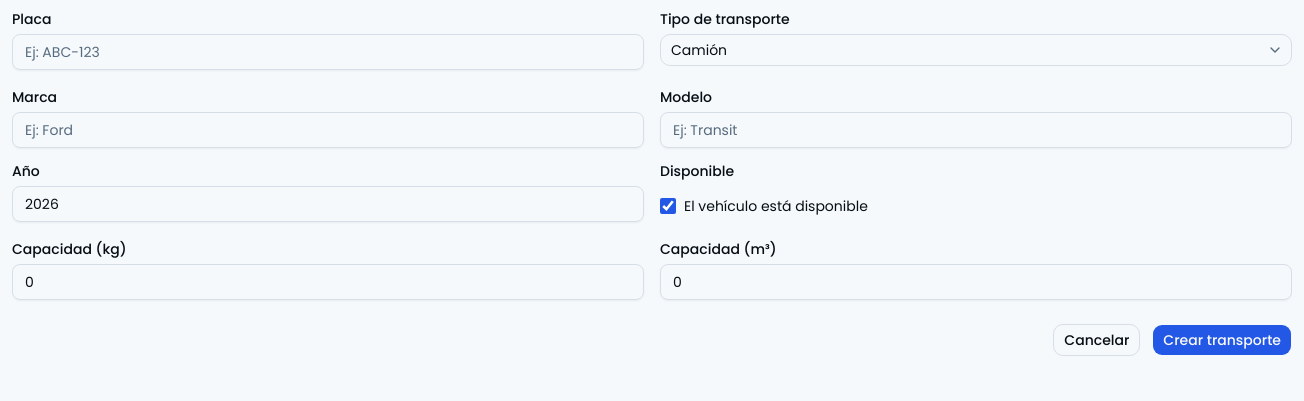
TransportForm — validación › muestra errores en capacity_kg y capacity_m3 con default 0
Type "TEST-001" into the field labelled "Placa" at x=328, y=52, box 12,34 -> 644,70
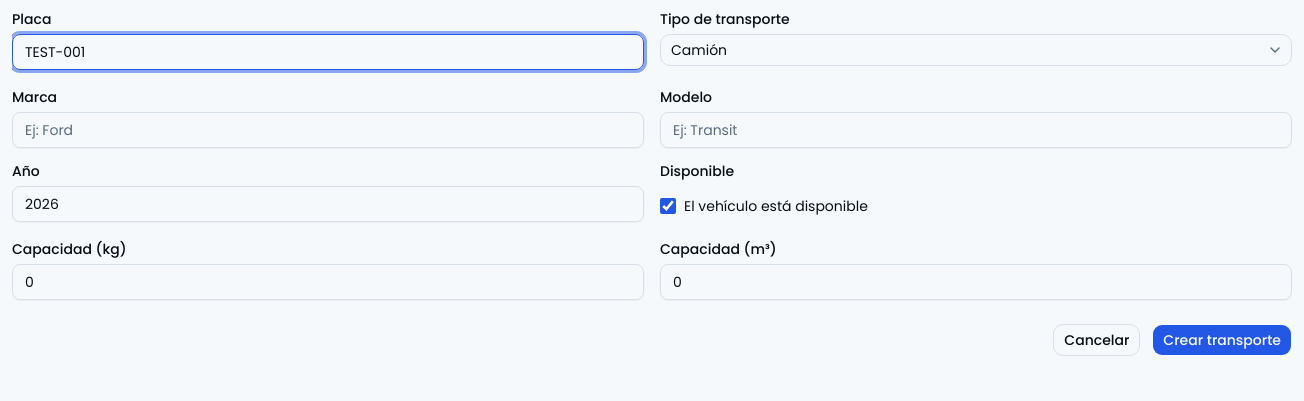
Type "Ford" into the field labelled "Marca" at x=328, y=130, box 12,112 -> 644,148
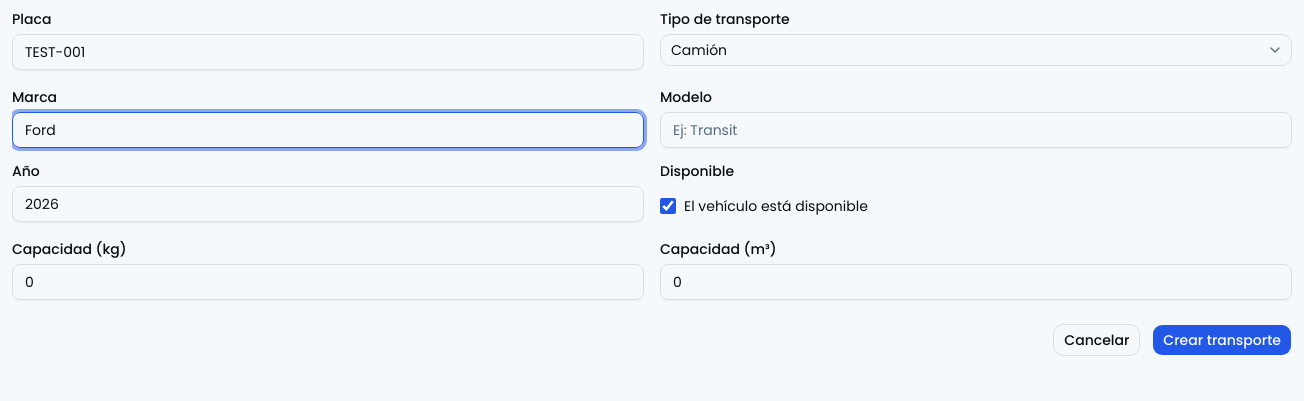
Type "Transit" into the field labelled "Modelo" at x=976, y=130, box 660,112 -> 1292,148
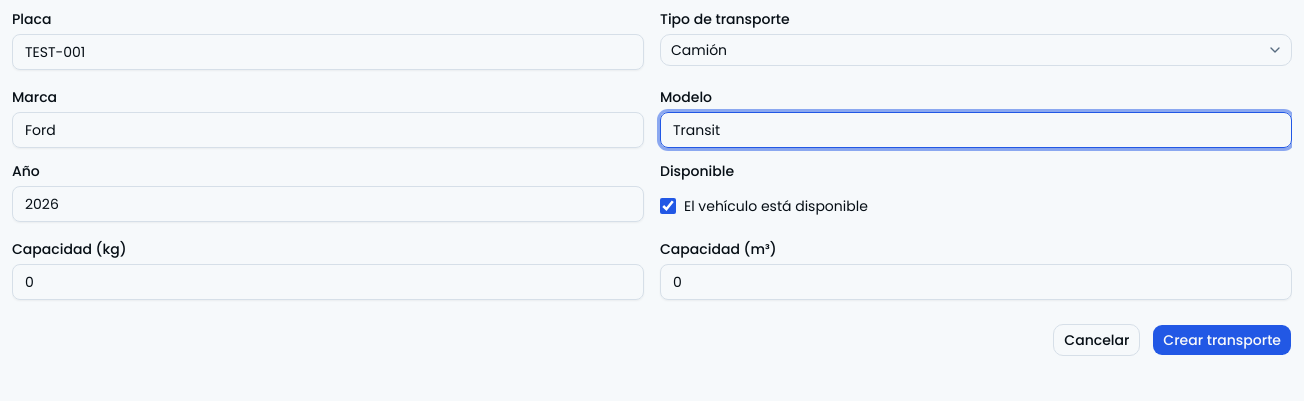
Click the button "Crear transporte" at x=1222, y=340, box 1152,324 -> 1292,356
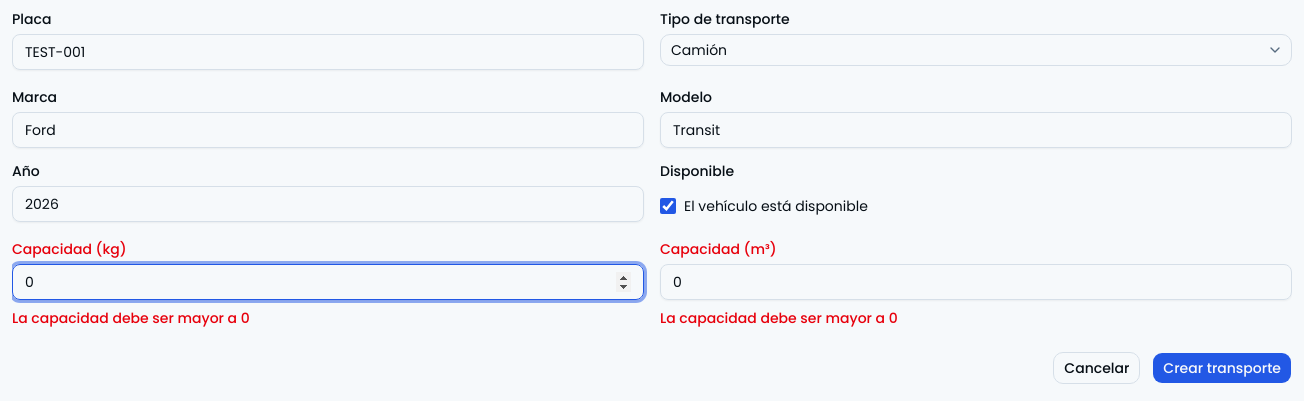
Now the text "La capacidad debe ser mayor a 0" is shown 2 times, box 12,308 -> 250,328; 660,308 -> 898,328
